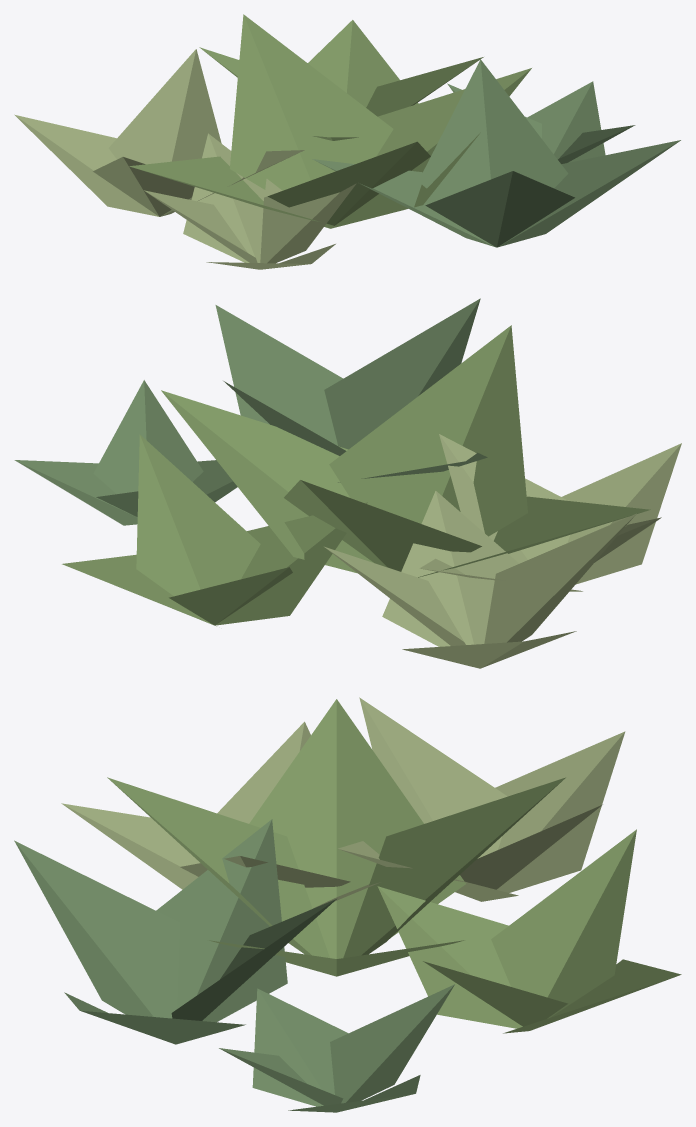
Rendered from veg_rock_crevice_plants.glb.
3 views of the same model, one above another, from view 1: azimuth 30°, elevation 25°; view 2: azimuth 150°, elevation 25°; view 3: azimuth 270°, elevation 25° (orthographic). The views are drawn at different scales.
Visible parts, largest first — view 1: clump_0, clump_2, clump_4, clump_1, clump_3, clump_5; view 2: clump_0, clump_3, clump_4, clump_2, clump_1, clump_5; view 3: clump_0, clump_2, clump_3, clump_4, clump_5, clump_1.
Part boxes in pixels (x1,y1,x2,y2): clump_0: (129,14,531,228); clump_2: (312,59,680,247); clump_4: (14,49,304,216); clump_1: (144,133,356,269); clump_3: (199,20,483,140); clump_5: (447,81,635,163); clump_0: (161,325,650,577); clump_3: (62,434,367,626); clump_4: (324,491,636,668); clump_2: (215,298,487,482); clump_1: (419,434,681,591); clump_5: (14,380,237,525); clump_0: (107,699,565,976); clump_2: (14,819,336,1044); clump_3: (377,829,681,1033); clump_4: (338,697,625,901); clump_5: (219,984,454,1112); clump_1: (61,721,380,908).
Bounding box in the file's own units: 0.474 × 0.1368 × 0.4153.
